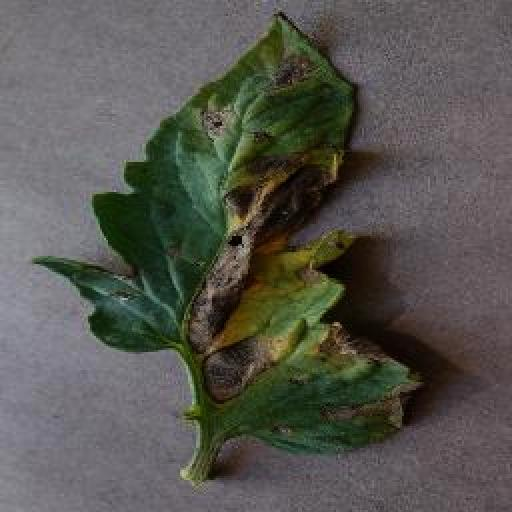disease_tomato: (32, 10, 426, 452)
